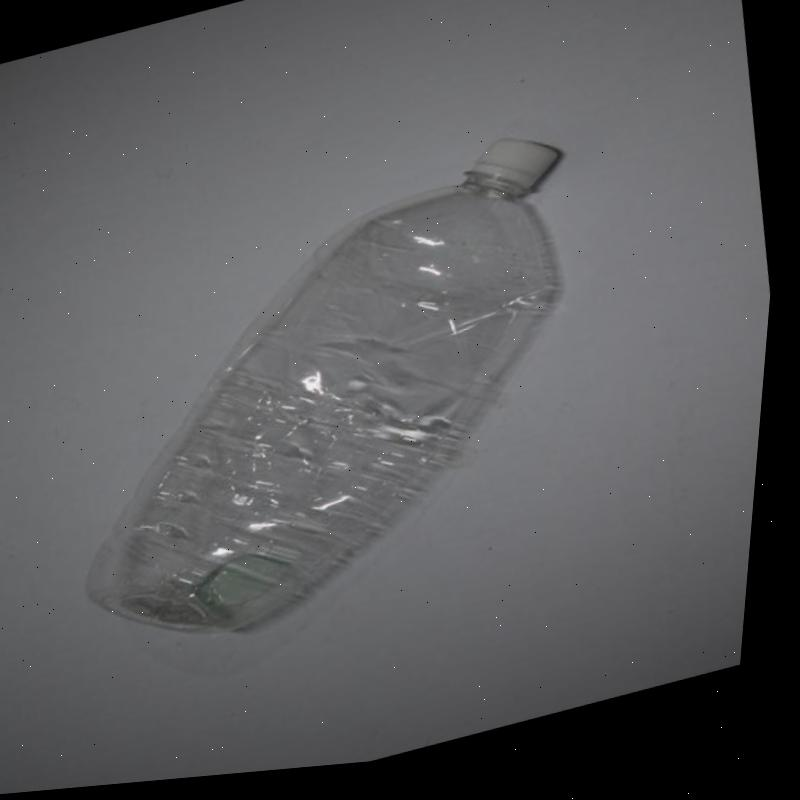botella: (26, 123, 637, 677)
